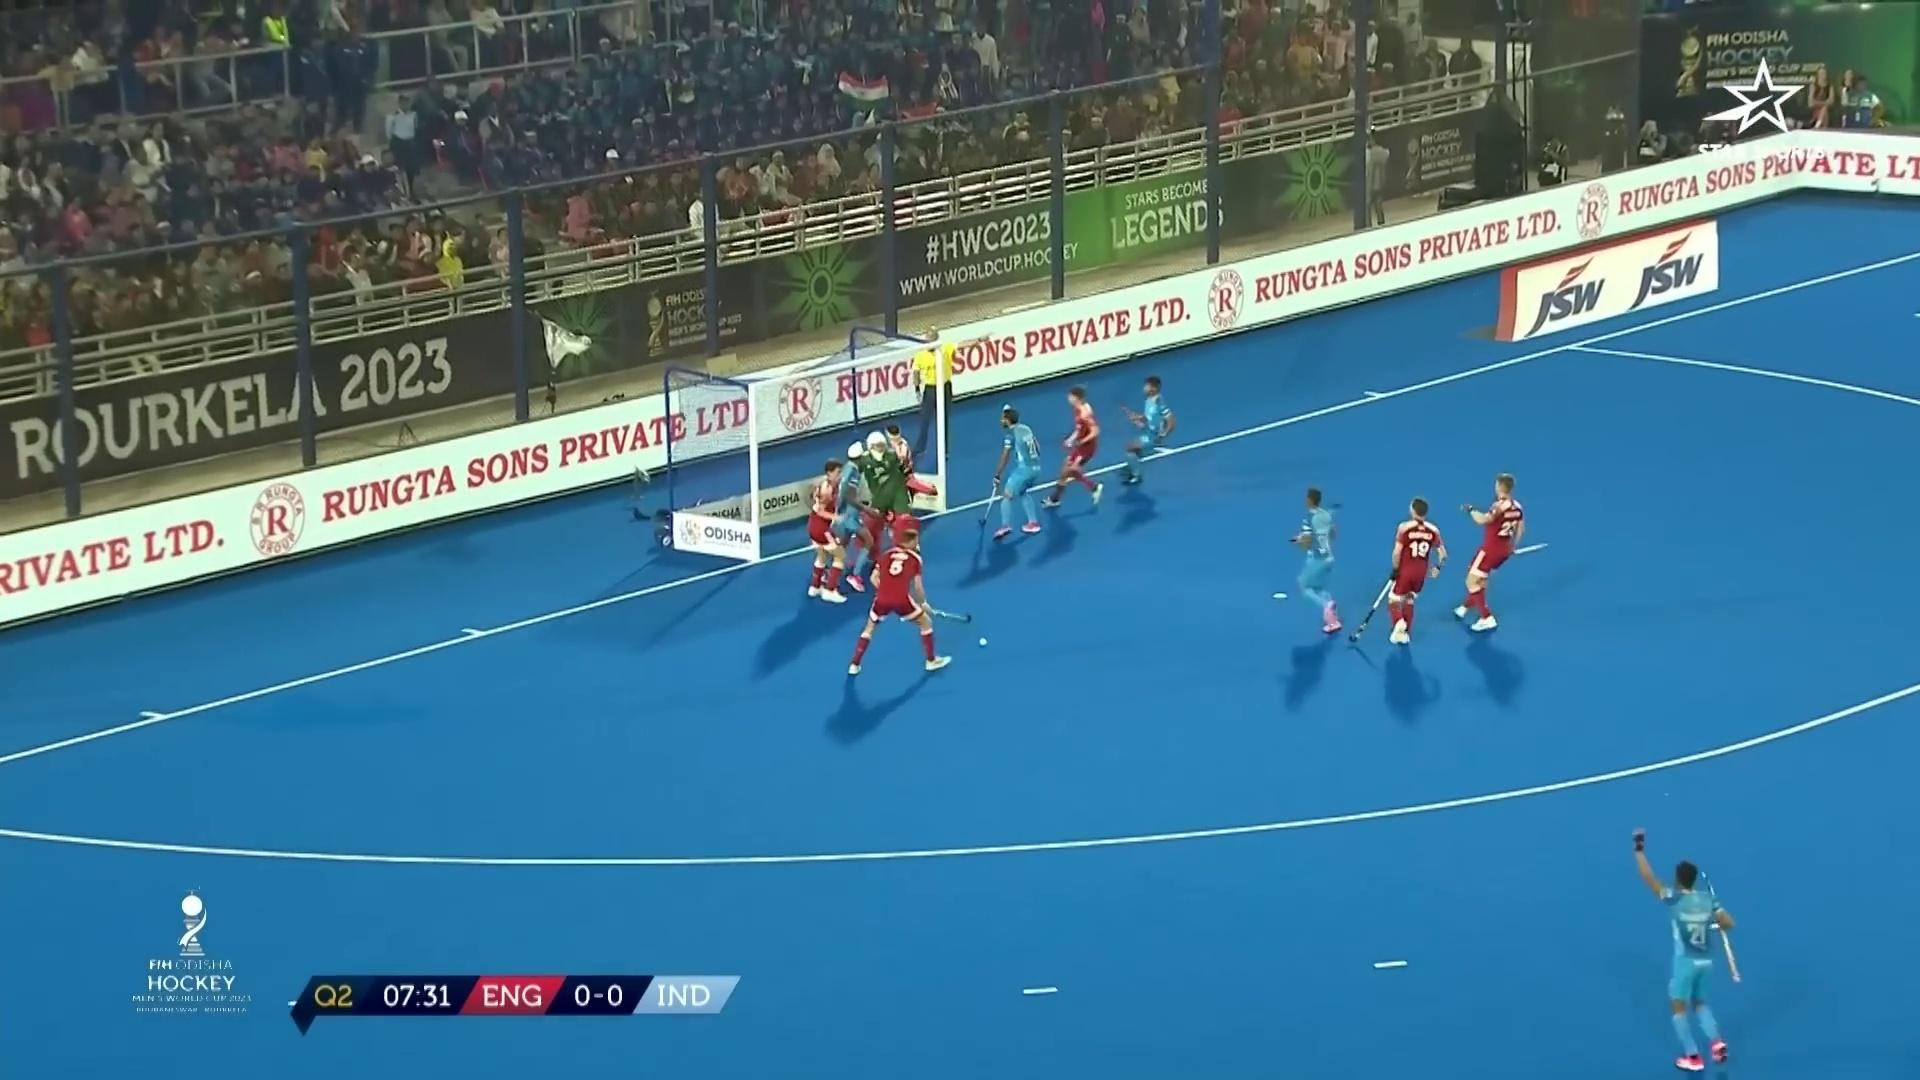ball: (976, 626, 997, 654)
